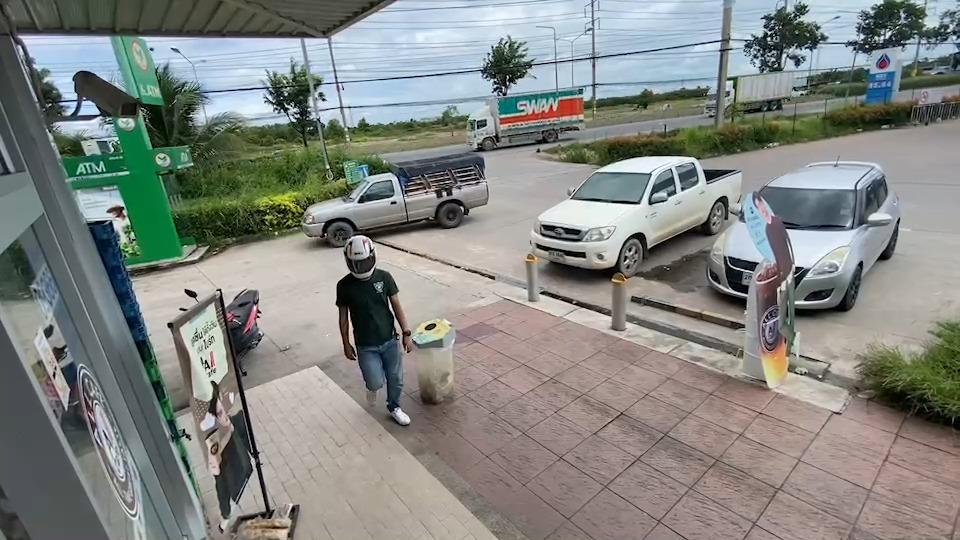criminal: (333, 236, 415, 427)
